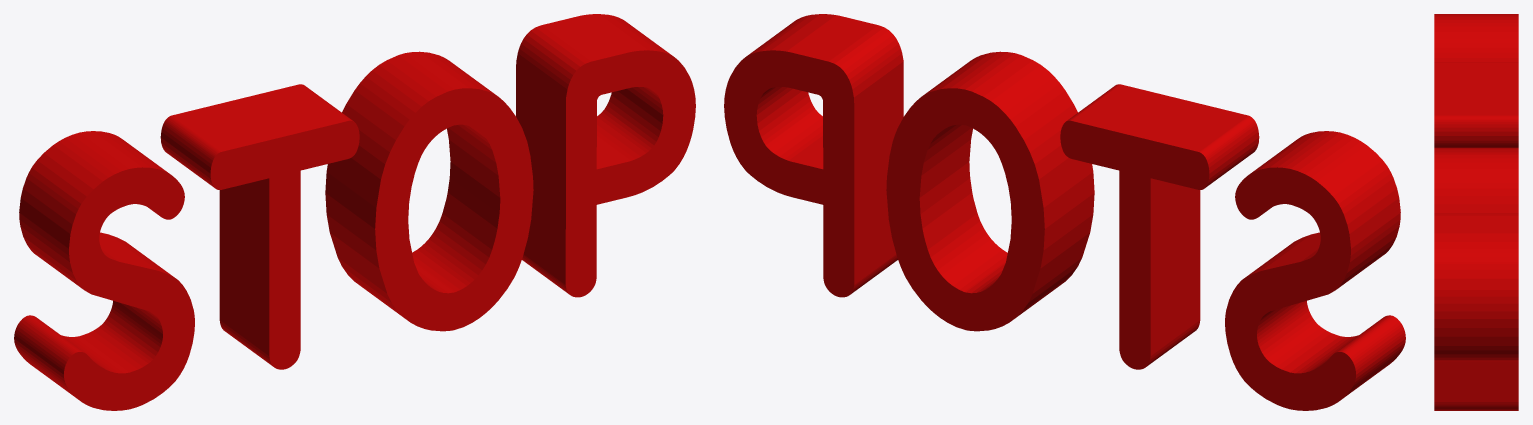
File: stop.gltf
3 renders of one model, left to right at view 1: azimuth 30°, elevation 25°; view 2: azimuth 150°, elevation 25°; view 3: azimuth 270°, elevation 25°, orthographic. The views are drawn at different scales.
Visible parts, largest first — view 1: path928; view 2: path928; view 3: path928.
Part boxes in pixels (x1,y1,x2,y2): path928: [14, 14, 695, 410]; path928: [724, 14, 1405, 410]; path928: [1434, 14, 1518, 410].
Size of the model in its own units: 0.11 by 0.04 by 0.015.
